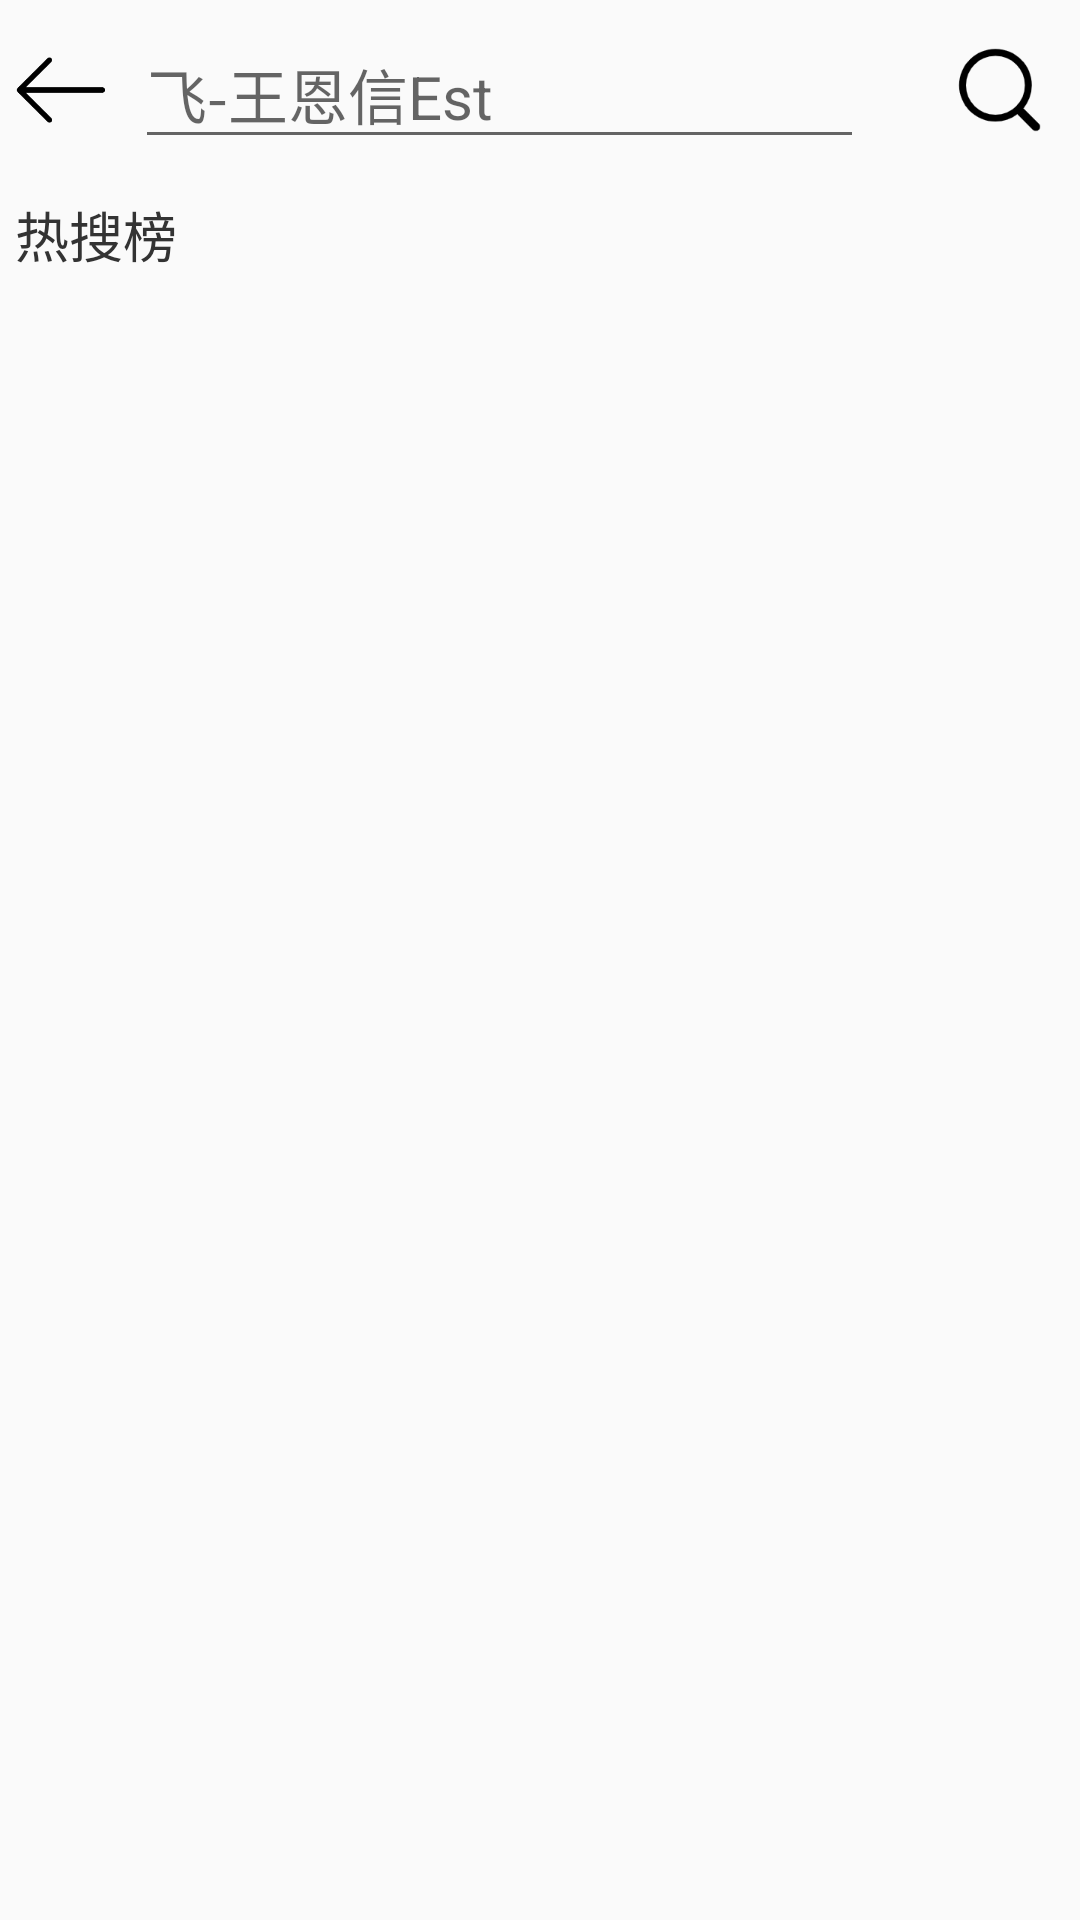

Icons on this 1080×1920 Android screen, each with its box as (x1, y1, x2, y2):
fanhui: (16, 57, 105, 123)
soushuo: (958, 48, 1041, 131)
